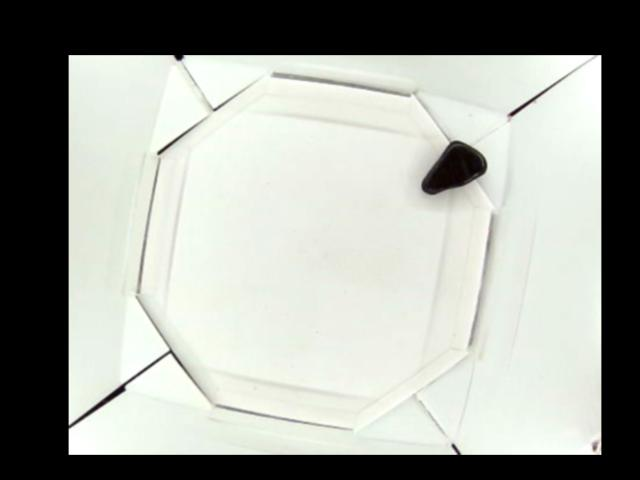Pebble: (420, 139, 489, 197)
